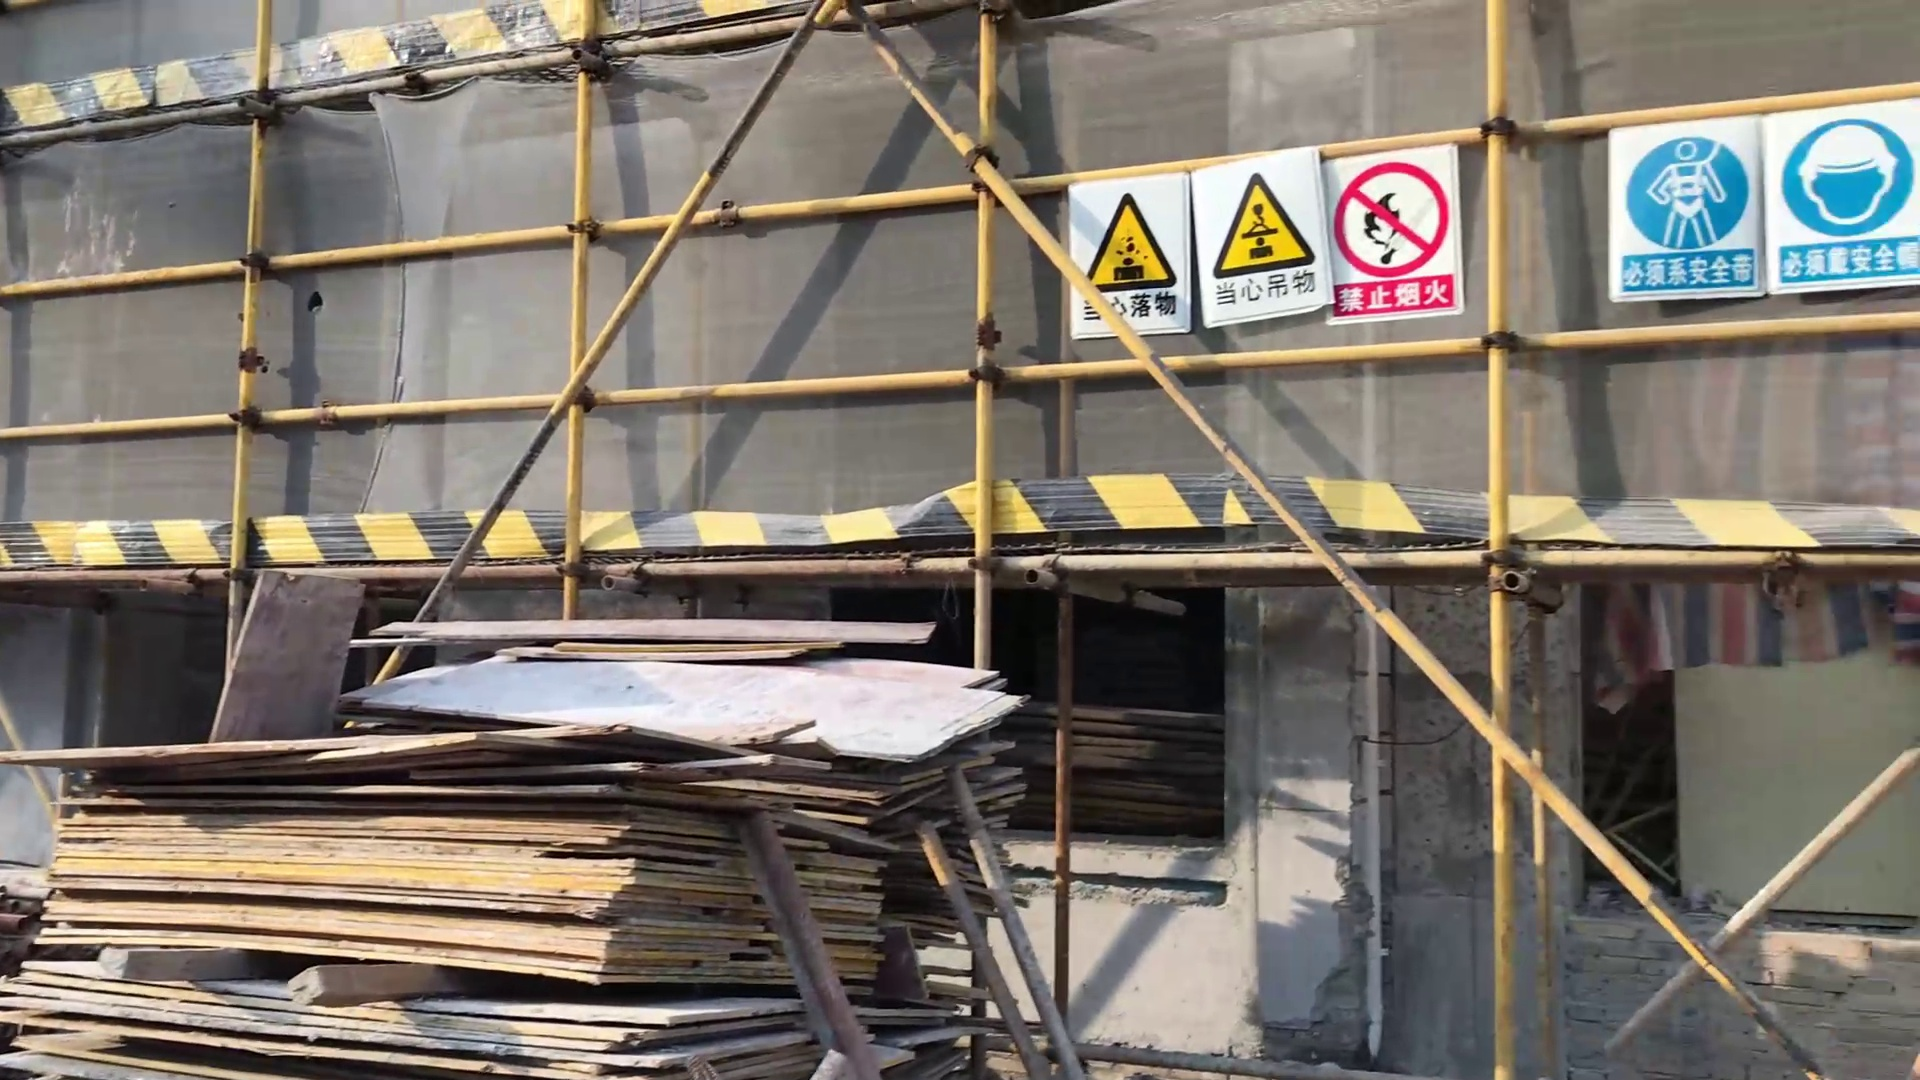board: (1, 615, 1033, 1079)
slogan: (1067, 148, 1462, 327), (1605, 98, 1920, 301)
